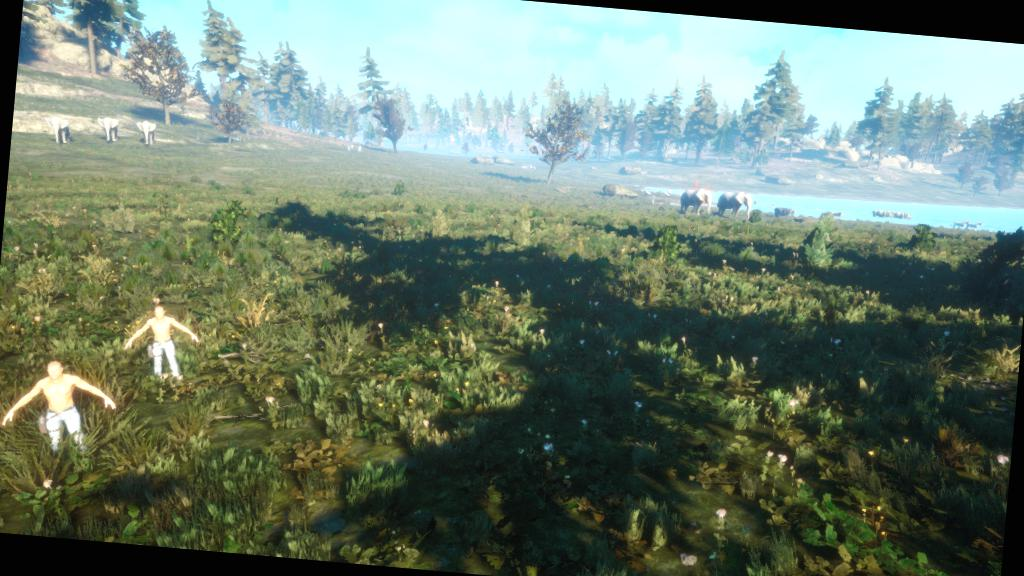elephant: (39, 106, 86, 158), (668, 180, 716, 220), (88, 105, 126, 153), (716, 184, 762, 222), (126, 112, 170, 151)
human: (0, 354, 137, 486), (114, 290, 224, 394)
